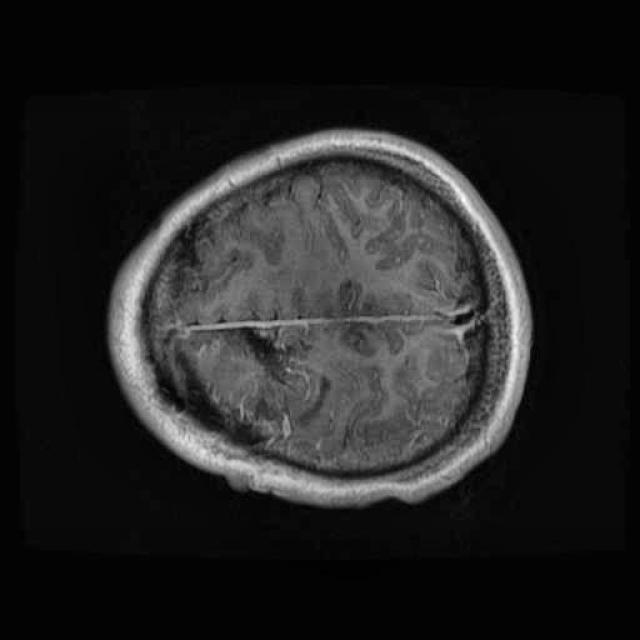Tumor: (163, 307, 337, 471)
